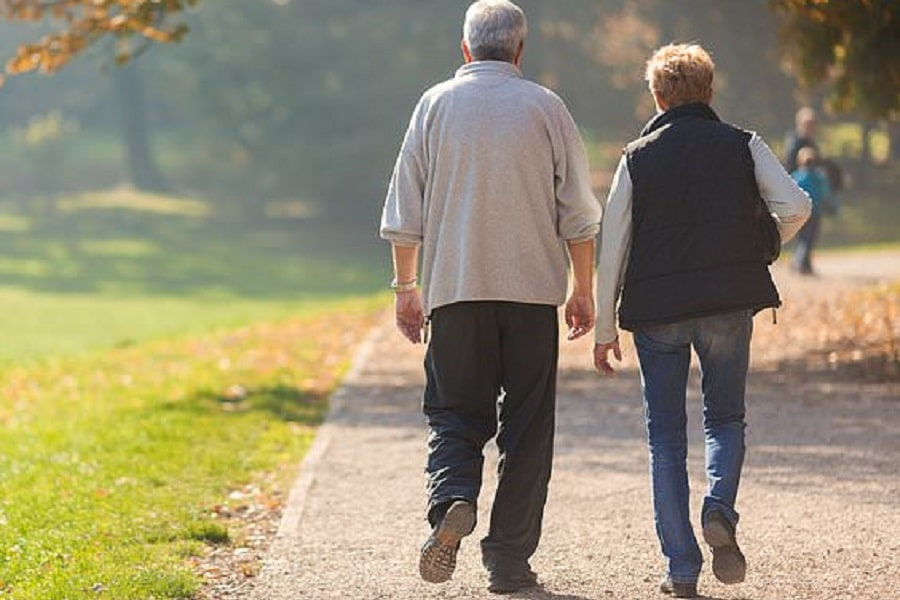feet: (406, 490, 547, 600), (645, 503, 756, 599)
